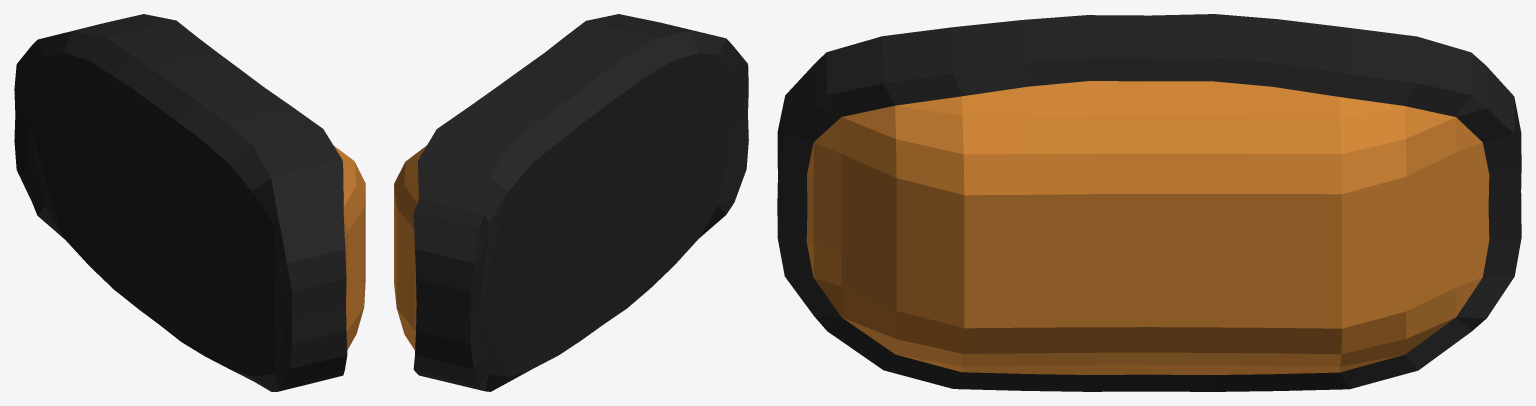
Rendered from DecorativeLight(1).fbx.
3 renders of one model, left to right at view 1: azimuth 30°, elevation 25°; view 2: azimuth 150°, elevation 25°; view 3: azimuth 270°, elevation 25°, orthographic. The views are drawn at different scales.
Parts seen in each view (by area): view 1: Цилиндр; view 2: Цилиндр; view 3: Цилиндр.
Boxes of the visible parts, x1,y1,x2,y2 form: Цилиндр: (14, 14, 365, 391); Цилиндр: (394, 14, 748, 391); Цилиндр: (777, 14, 1521, 391).
Bounding box in the file's own units: 157 × 258 × 518.
